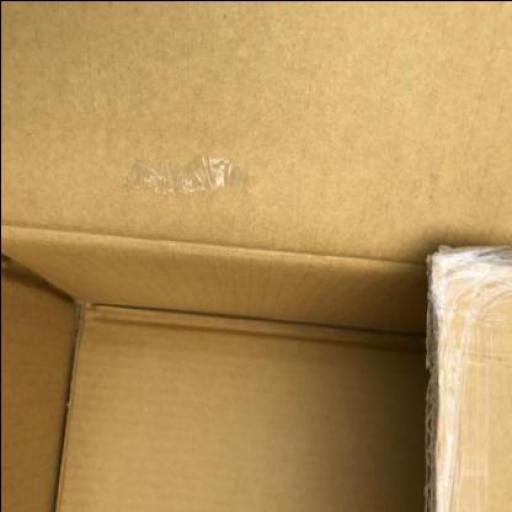cardboard: (1, 1, 511, 511), (54, 303, 430, 511)
